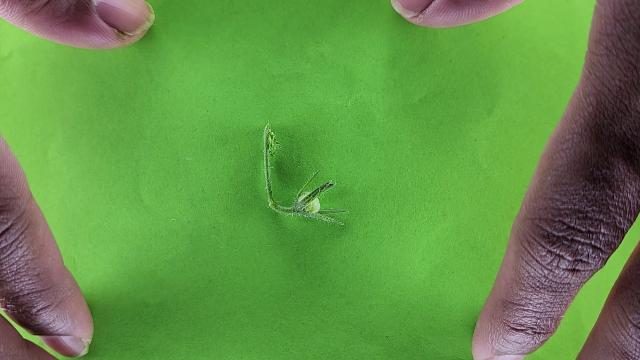Fruit Bud: (270, 189, 350, 226), (293, 170, 331, 213)
